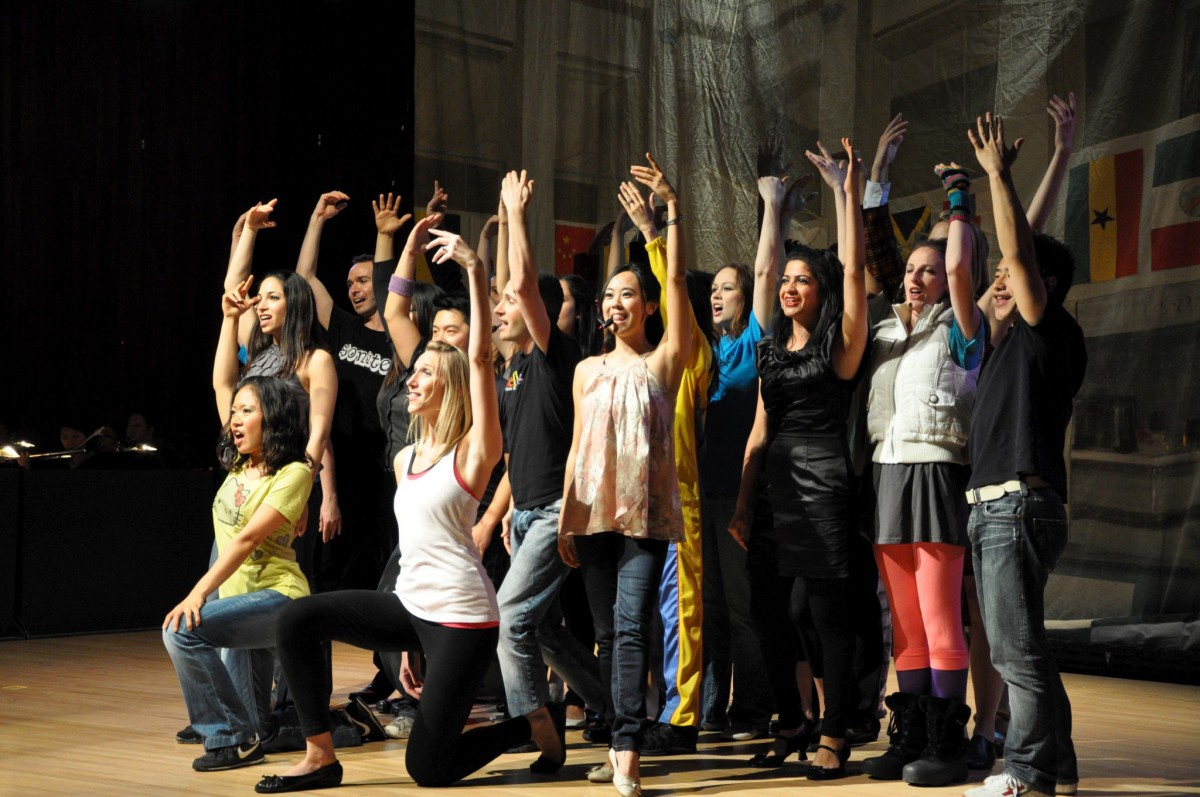bad: (770, 266, 813, 310), (333, 266, 376, 310), (242, 281, 285, 324), (597, 281, 640, 324), (221, 398, 257, 434), (701, 278, 737, 314)
